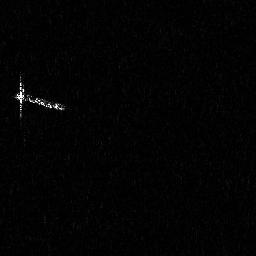ship: (13, 73, 68, 124)
